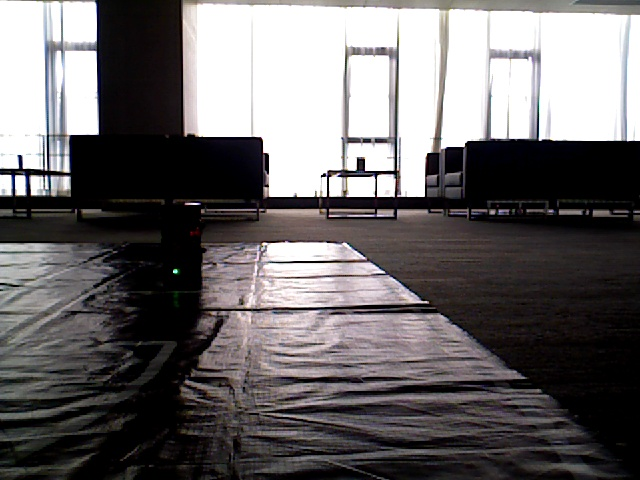green: (165, 213, 199, 288)
